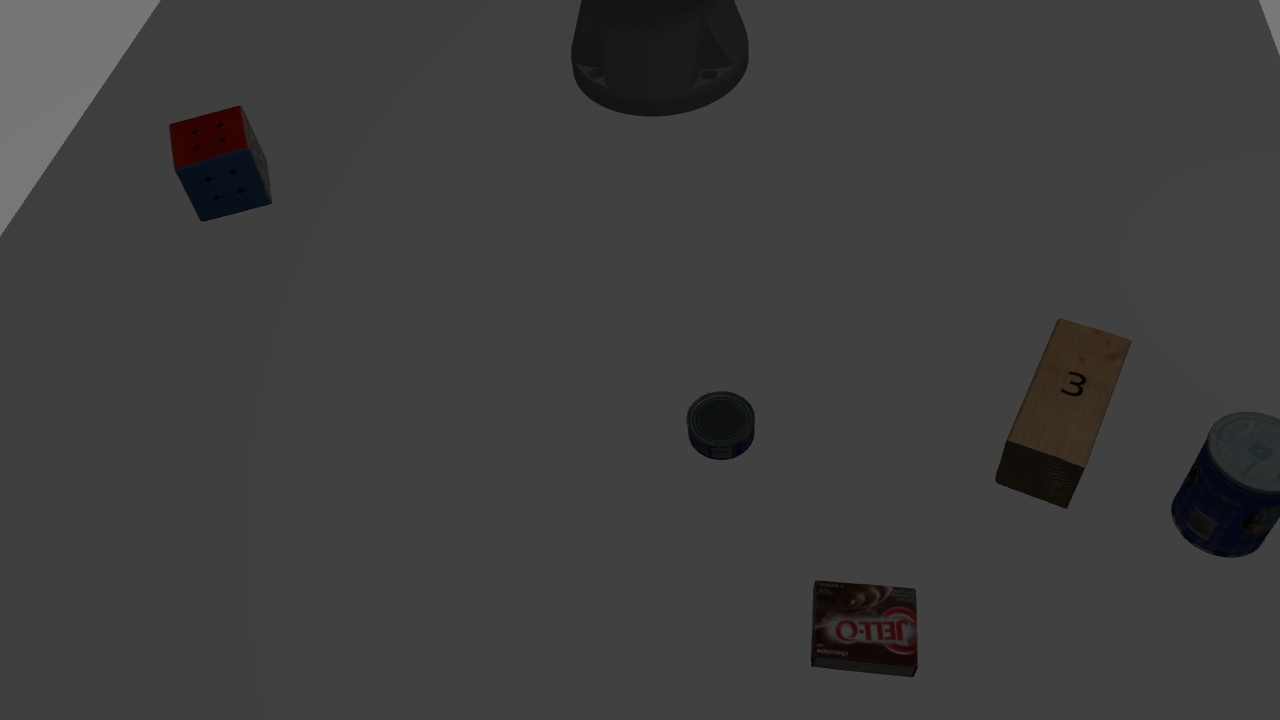master_chef_can: (1166, 403, 1269, 561)
pudding_box: (808, 572, 921, 681)
rubiks_cube: (165, 106, 281, 228)
tuna_fish_can: (681, 391, 769, 465)
wood_block: (993, 301, 1137, 509)
